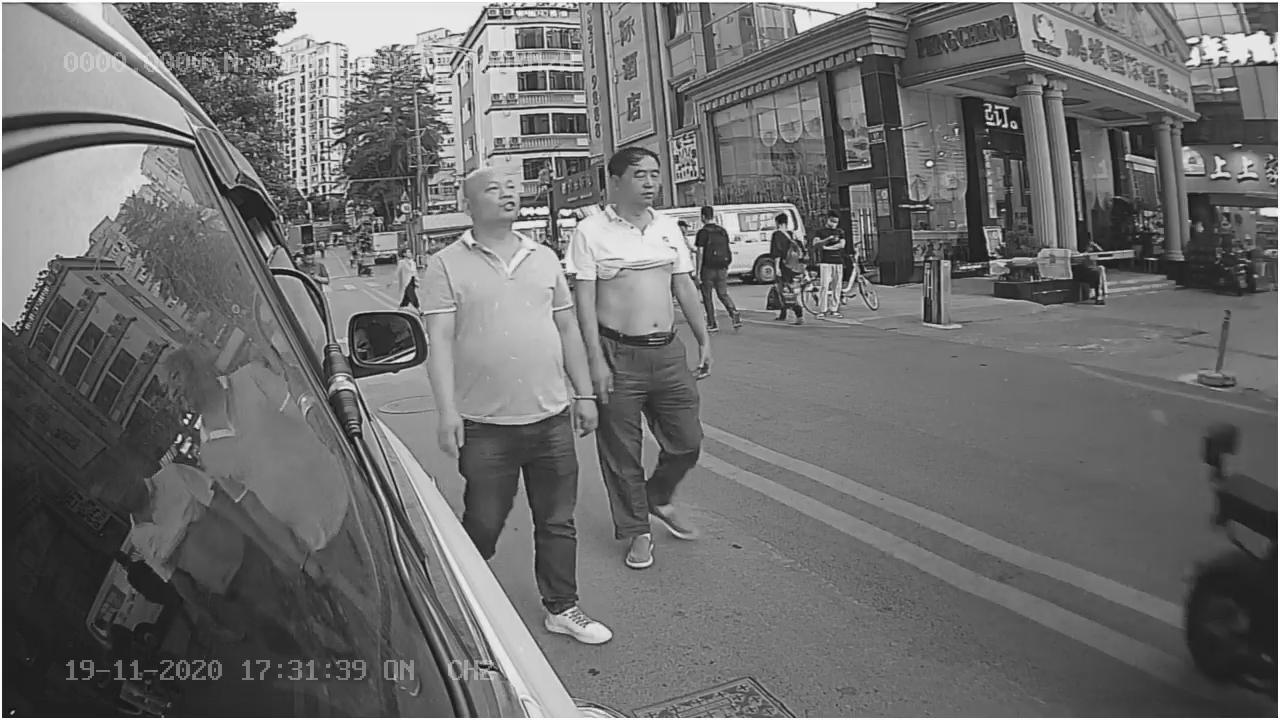person: (580, 144, 719, 549)
